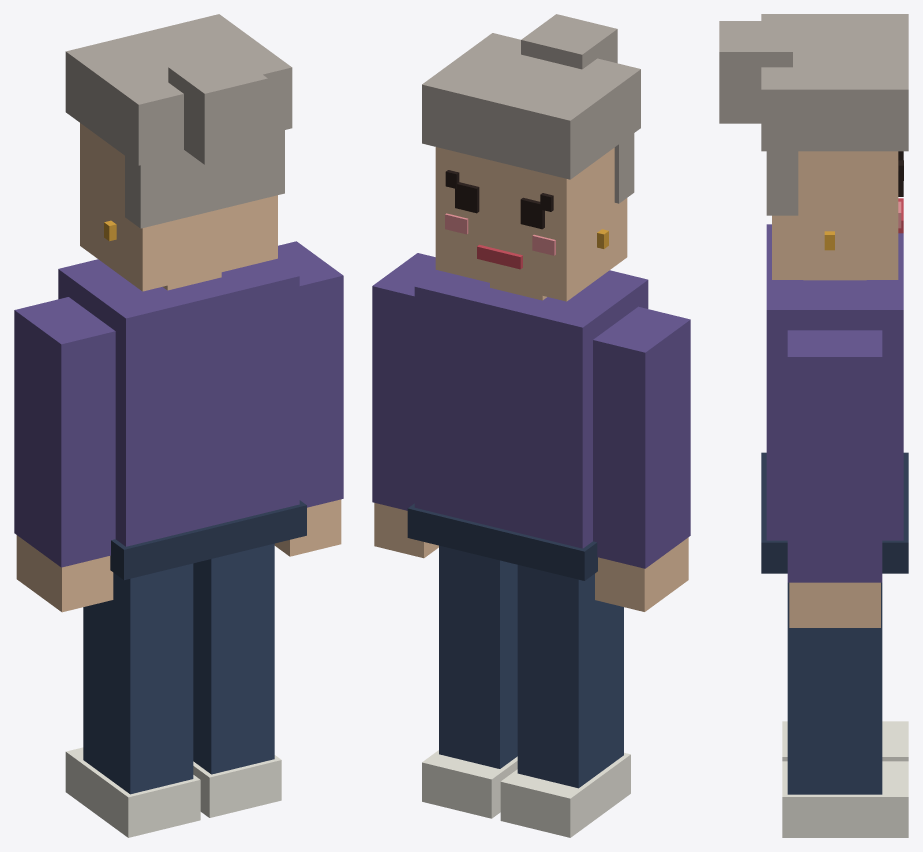
Rendered from clerk_library.glb.
3 views of the same model, side by side, from view 1: azimuth 30°, elevation 25°; view 2: azimuth 150°, elevation 25°; view 3: azimuth 270°, elevation 25° (orthographic). The views are drawn at different scales.
Parts seen in each view (by area): view 1: Box9, Box3, Box1, Box22, Box5, Box12, Box7, Box23, Box24, Box10, Box2, Box4 (+2 smaller); view 2: Box9, Box3, Box22, Box1, Box12, Box5, Box7, Box2, Box10, Box6, Box4, Box24 (+5 smaller); view 3: Box7, Box22, Box9, Box5, Box12, Box6, Box24, Box8, Box10, Box23, Box2.
Part boxes in pixels (x1,y1,x2,y2): Box9: (58, 259, 299, 546); Box3: (14, 297, 115, 567); Box1: (83, 563, 193, 794); Box22: (65, 14, 292, 165); Box5: (193, 543, 274, 774); Box12: (80, 123, 277, 291); Box7: (277, 241, 343, 507); Box23: (125, 130, 284, 228); Box24: (168, 51, 267, 164); Box10: (110, 500, 306, 580); Box2: (65, 747, 200, 837); Box4: (16, 535, 113, 612); Box9: (414, 270, 648, 548); Box3: (593, 306, 690, 568); Box22: (422, 33, 640, 179); Box1: (517, 565, 623, 788); Box12: (435, 147, 627, 301); Box5: (439, 545, 517, 768); Box7: (372, 253, 436, 510); Box2: (500, 752, 630, 837); Box10: (407, 503, 597, 580); Box6: (422, 750, 517, 818); Box4: (595, 537, 688, 611); Box24: (521, 14, 617, 69); Box7: (787, 330, 882, 582); Box22: (761, 14, 908, 151); Box9: (766, 224, 903, 540); Box5: (787, 582, 882, 794); Box12: (772, 151, 898, 279); Box6: (782, 761, 908, 837); Box24: (719, 21, 792, 123); Box8: (789, 582, 880, 627); Box10: (761, 452, 908, 573); Box23: (766, 151, 798, 215); Box2: (782, 721, 908, 761).
Bounding box in the file's own units: 0.7088 × 1.81 × 0.4082.
